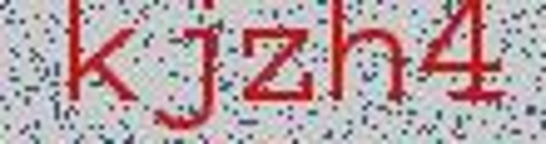4: (416, 2, 518, 117)
h: (324, 1, 411, 120)
j: (152, 1, 225, 136)
k: (57, 1, 143, 118)
z: (237, 17, 320, 117)
